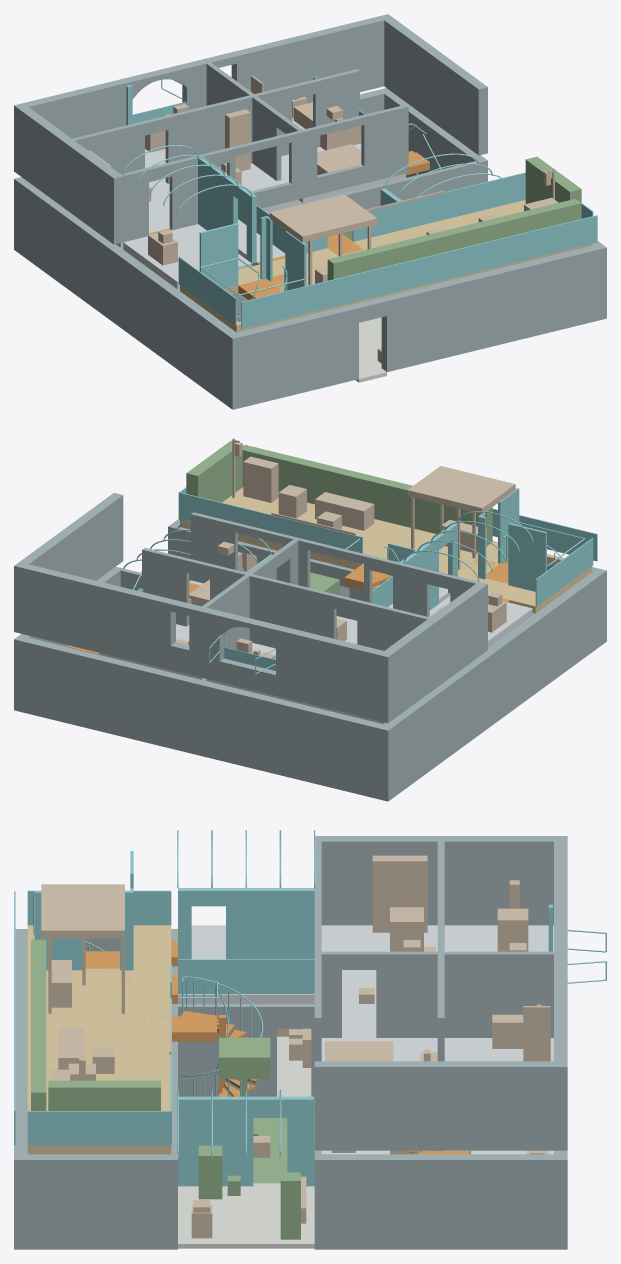
File: Haus-v0.4.4.glb
3 views of the same model, one above another, from view 1: azimuth 30°, elevation 25°; view 2: azimuth 150°, elevation 25°; view 3: azimuth 270°, elevation 25° (orthographic). The views are drawn at different scales.
Parts seen in each view (by area): view 1: West, Sued.002, Sued, Terrassenrand Schutz, OG West, OG Ost, OG Nord.006, ITEM TR04 Pflanzkasten Sued, Brues tung / Blickkante.002, OG Nord, Bibliothek Fenster.002, OG Hof.010 (+37 smaller); view 2: Nord, West, OG Nord.006, OG Nord, OG West, ITEM TR04 Pflanzkasten Sued, OG Ost, Bibliothek Fenster.002, Brues tung / Blickkante.002, Terrasse +3.002, ITEM O17 Begrünter Dachüberstand · Variante, OG Nord.003 (+32 smaller); view 3: Ost nord, OG Ost, OG West, Ost sued, OG Musik Atelier.002, Terrasse +3.002, Terrasse +3.003, Galerie Glaswand.001, Wintergarten EG, Wintergarten Hofglas, Terrassenrand Schutz.002, Kueche Hof (+46 smaller).
Boxes of the visible parts, left/top/right/bottom form: West: left=14, top=177, right=241, bottom=409; Sued.002: left=381, top=243, right=606, bottom=372; Sued: left=227, top=304, right=358, bottom=409; Terrassenrand Schutz: left=241, top=215, right=597, bottom=329; OG West: left=14, top=103, right=123, bottom=244; OG Ost: left=379, top=14, right=487, bottom=155; OG Nord.006: left=231, top=14, right=392, bottom=103; ITEM TR04 Pflanzkasten Sued: left=327, top=198, right=581, bottom=280; Brues tung / Blickkante.002: left=352, top=172, right=525, bottom=241; OG Nord: left=14, top=78, right=131, bottom=174; Bibliothek Fenster.002: left=165, top=95, right=252, bottom=183; OG Hof.010: left=361, top=104, right=408, bottom=183; Nord: left=14, top=635, right=392, bottom=801; West: left=379, top=568, right=606, bottom=801; OG Nord.006: left=14, top=562, right=175, bottom=669; OG Nord: left=276, top=626, right=393, bottom=723; OG West: left=379, top=582, right=487, bottom=722; ITEM TR04 Pflanzkasten Sued: left=242, top=445, right=492, bottom=545; OG Ost: left=14, top=493, right=123, bottom=632; Bibliothek Fenster.002: left=249, top=574, right=336, bottom=647; Brues tung / Blickkante.002: left=179, top=492, right=362, bottom=564; Terrasse +3.002: left=222, top=487, right=508, bottom=575; ITEM O17 Begrünter Dachüberstand · Variante: left=407, top=466, right=515, bottom=514; OG Nord.003: left=189, top=605, right=224, bottom=681; Ost nord: left=314, top=1154, right=567, bottom=1249; OG Ost: left=314, top=1061, right=567, bottom=1150; OG West: left=315, top=836, right=567, bottom=925; Ost sued: left=14, top=1154, right=177, bottom=1249; OG Musik Atelier.002: left=376, top=951, right=553, bottom=1037; Terrasse +3.002: left=34, top=968, right=130, bottom=1154; Terrasse +3.003: left=130, top=925, right=171, bottom=1154; Galerie Glaswand.001: left=226, top=888, right=314, bottom=959; Wintergarten EG: left=178, top=1186, right=314, bottom=1248; Wintergarten Hofglas: left=178, top=1096, right=253, bottom=1186; Terrassenrand Schutz.002: left=27, top=1111, right=171, bottom=1145; Kueche Hof: left=178, top=1004, right=276, bottom=1096.
Size of the model in its own units: 16 by 6.87 by 17.35.
